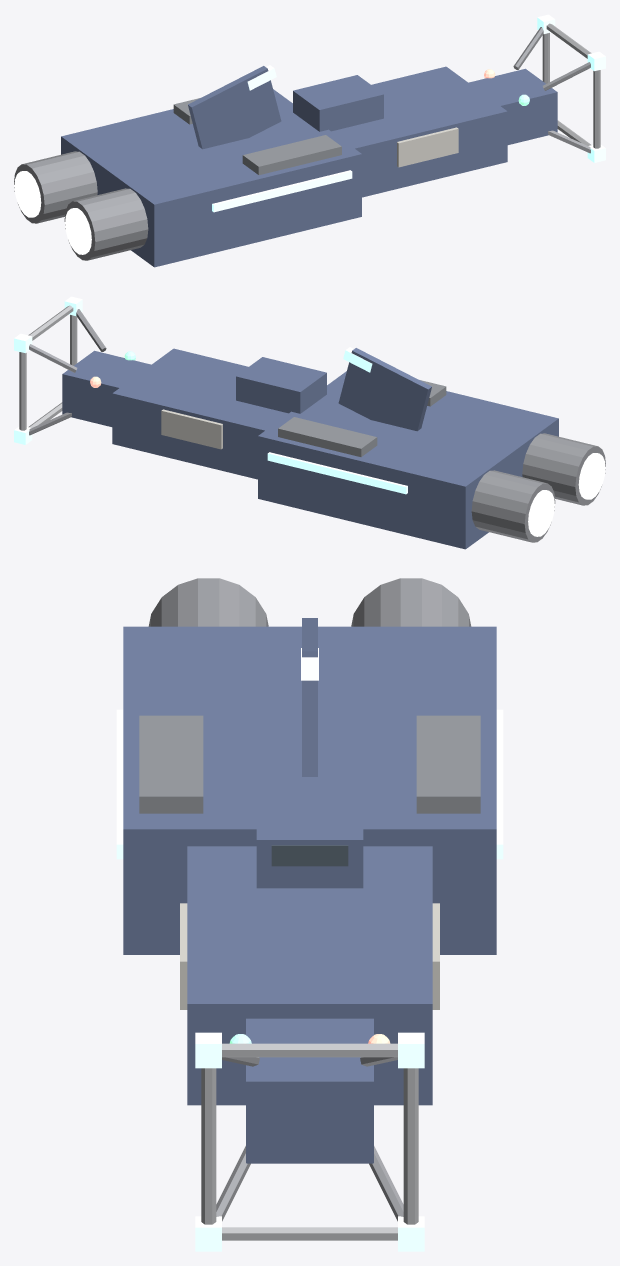
The model's file is customs_cutter.glb.
3 views of the same model, one above another, from view 1: azimuth 30°, elevation 25°; view 2: azimuth 150°, elevation 25°; view 3: azimuth 270°, elevation 25° (orthographic). The views are drawn at different scales.
Parts seen in each view (by area): view 1: cst_body_aft, cst_body_fore, cst_fin, cst_bridge_pod, cst_drive_s_shroud, cst_prow, cst_drive_p_shroud, cst_fairing_s, cst_registry_s, cst_authority_s, cst_drive_s_glow, cst_drive_p_glow (+3 smaller); view 2: cst_body_aft, cst_body_fore, cst_fin, cst_bridge_pod, cst_drive_p_shroud, cst_prow, cst_drive_s_shroud, cst_fairing_p, cst_registry_p, cst_authority_p, cst_drive_p_glow, cst_drive_s_glow (+3 smaller); view 3: cst_body_aft, cst_body_fore, cst_prow, cst_bridge_pod, cst_fairing_p, cst_fairing_s, cst_drive_p_shroud, cst_drive_s_shroud, cst_hoop_t, cst_hoop_p, cst_hoop_s, cst_hoop_b (+6 smaller).
Part boxes in pixels (box(x1,y1,x2,y2)): cst_body_aft: box(61, 89, 361, 267); cst_body_fore: box(331, 66, 507, 197); cst_fin: box(188, 66, 281, 149); cst_bridge_pod: box(293, 75, 383, 131); cst_drive_s_shroud: box(64, 188, 148, 260); cst_prow: box(469, 68, 557, 144); cst_drive_p_shroud: box(14, 151, 97, 223); cst_fairing_s: box(242, 135, 341, 174); cst_registry_s: box(397, 127, 458, 167); cst_authority_s: box(212, 170, 352, 212); cst_drive_s_glow: box(65, 208, 91, 254); cst_drive_p_glow: box(14, 171, 41, 217); cst_body_aft: box(258, 371, 558, 549); cst_body_fore: box(112, 348, 288, 479); cst_fin: box(338, 348, 431, 431); cst_bridge_pod: box(236, 357, 326, 413); cst_drive_p_shroud: box(471, 470, 555, 542); cst_prow: box(62, 350, 150, 426); cst_drive_s_shroud: box(522, 433, 605, 505); cst_fairing_p: box(278, 417, 377, 456); cst_registry_p: box(161, 409, 222, 449); cst_authority_p: box(267, 452, 407, 494); cst_drive_p_glow: box(528, 490, 554, 536); cst_drive_s_glow: box(578, 453, 605, 499); cst_body_aft: box(123, 626, 496, 954); cst_body_fore: box(187, 846, 432, 1105); cst_prow: box(246, 1018, 373, 1163); cst_bridge_pod: box(256, 777, 363, 888); cst_fairing_p: box(416, 715, 480, 813); cst_fairing_s: box(139, 715, 203, 813); cst_drive_p_shroud: box(351, 578, 471, 626); cst_drive_s_shroud: box(148, 578, 268, 626); cst_hoop_t: box(222, 1043, 397, 1057); cst_hoop_p: box(403, 1068, 418, 1224); cst_hoop_s: box(201, 1068, 216, 1224); cst_hoop_b: box(222, 1227, 397, 1240).
Size of the model in its own units: 22.78 by 6.18 by 7.26.
